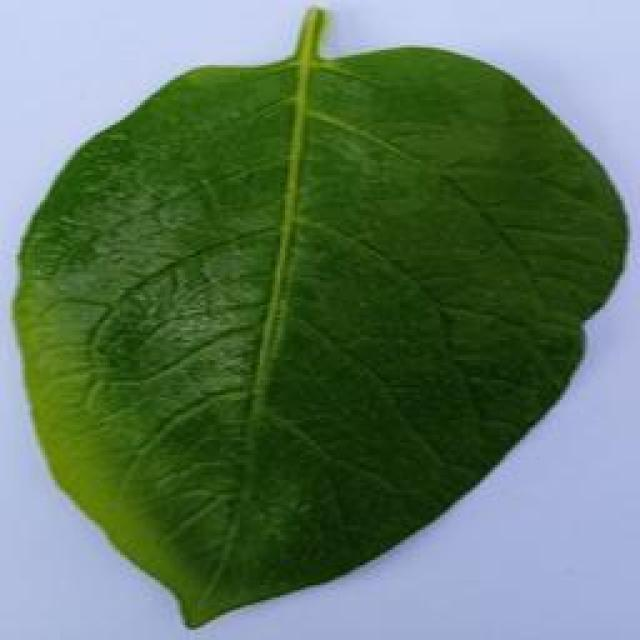Potato_Healthy: (6, 10, 634, 636)
